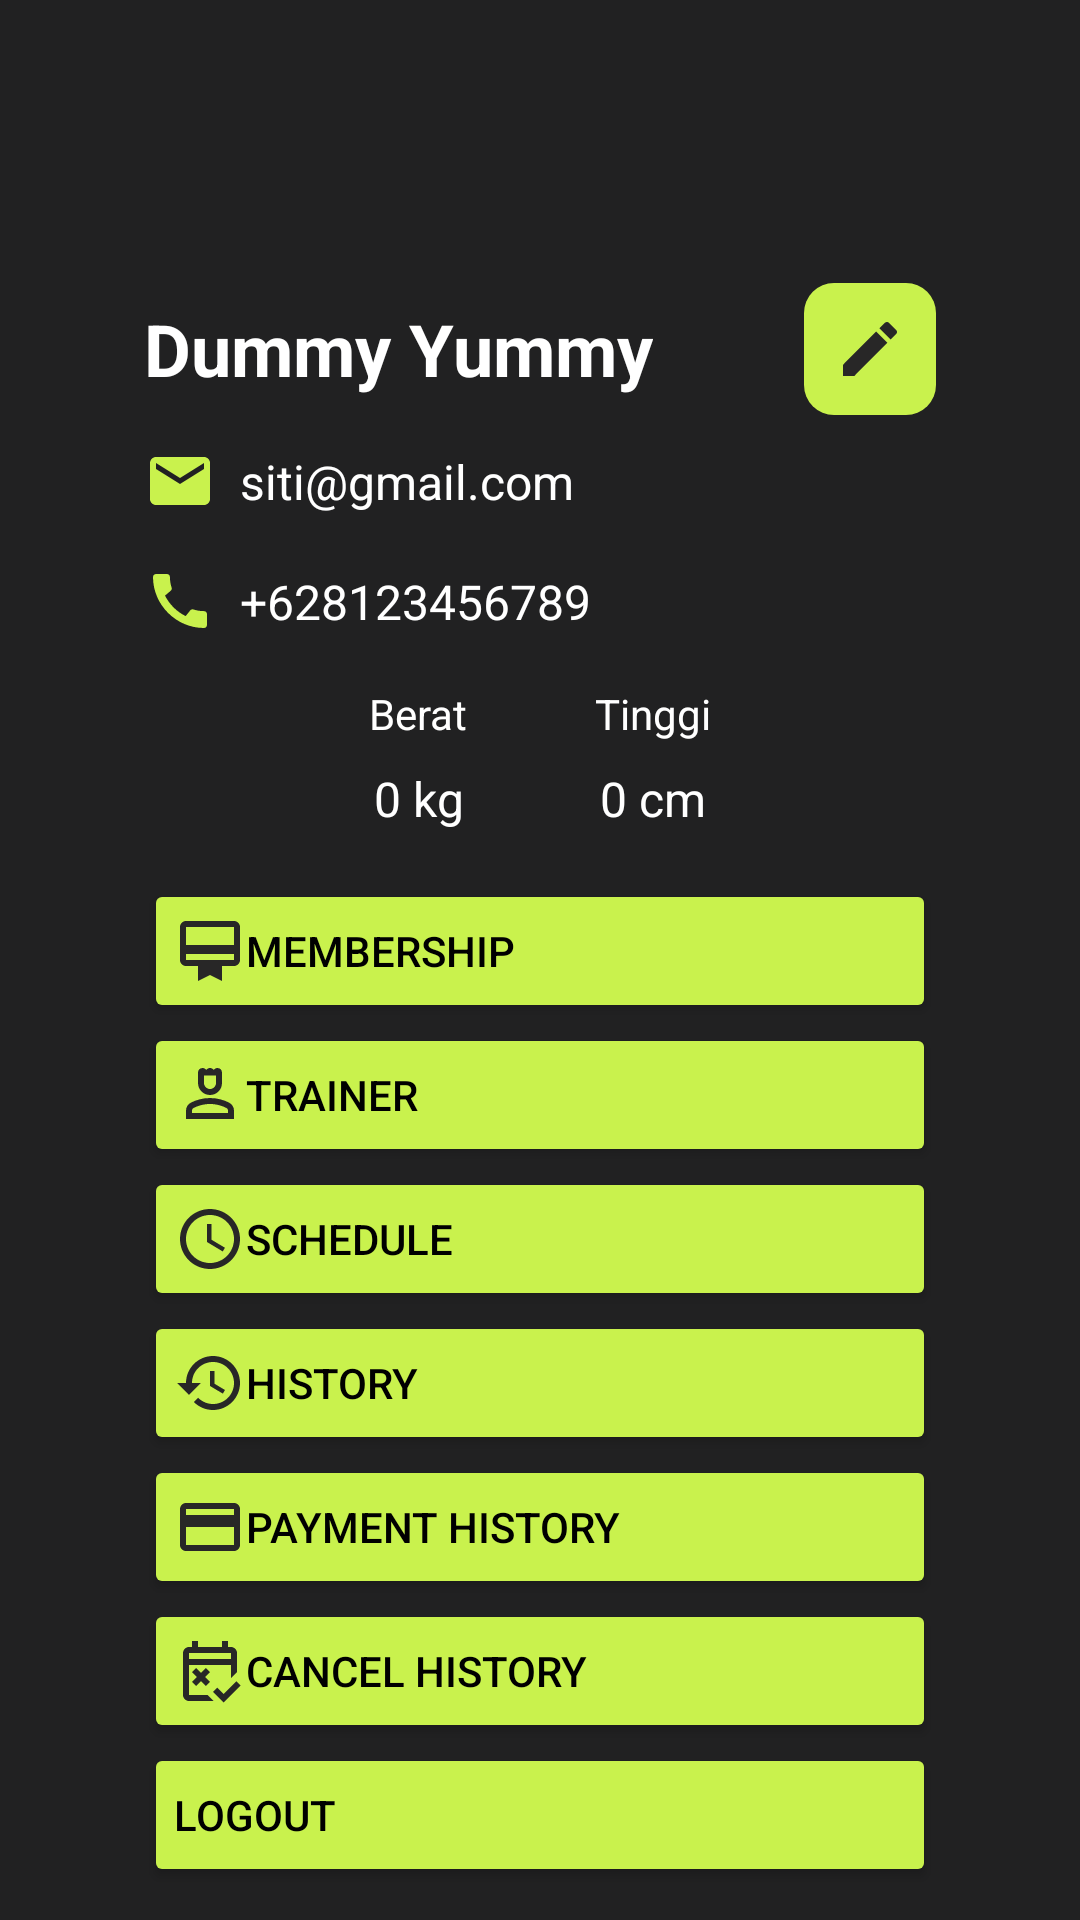

Named icons in this screenshot (1080px×1920px) and their centers, (x=x, y=y):
call: (x=180, y=601)
edit: (x=870, y=349)
email: (x=180, y=481)
